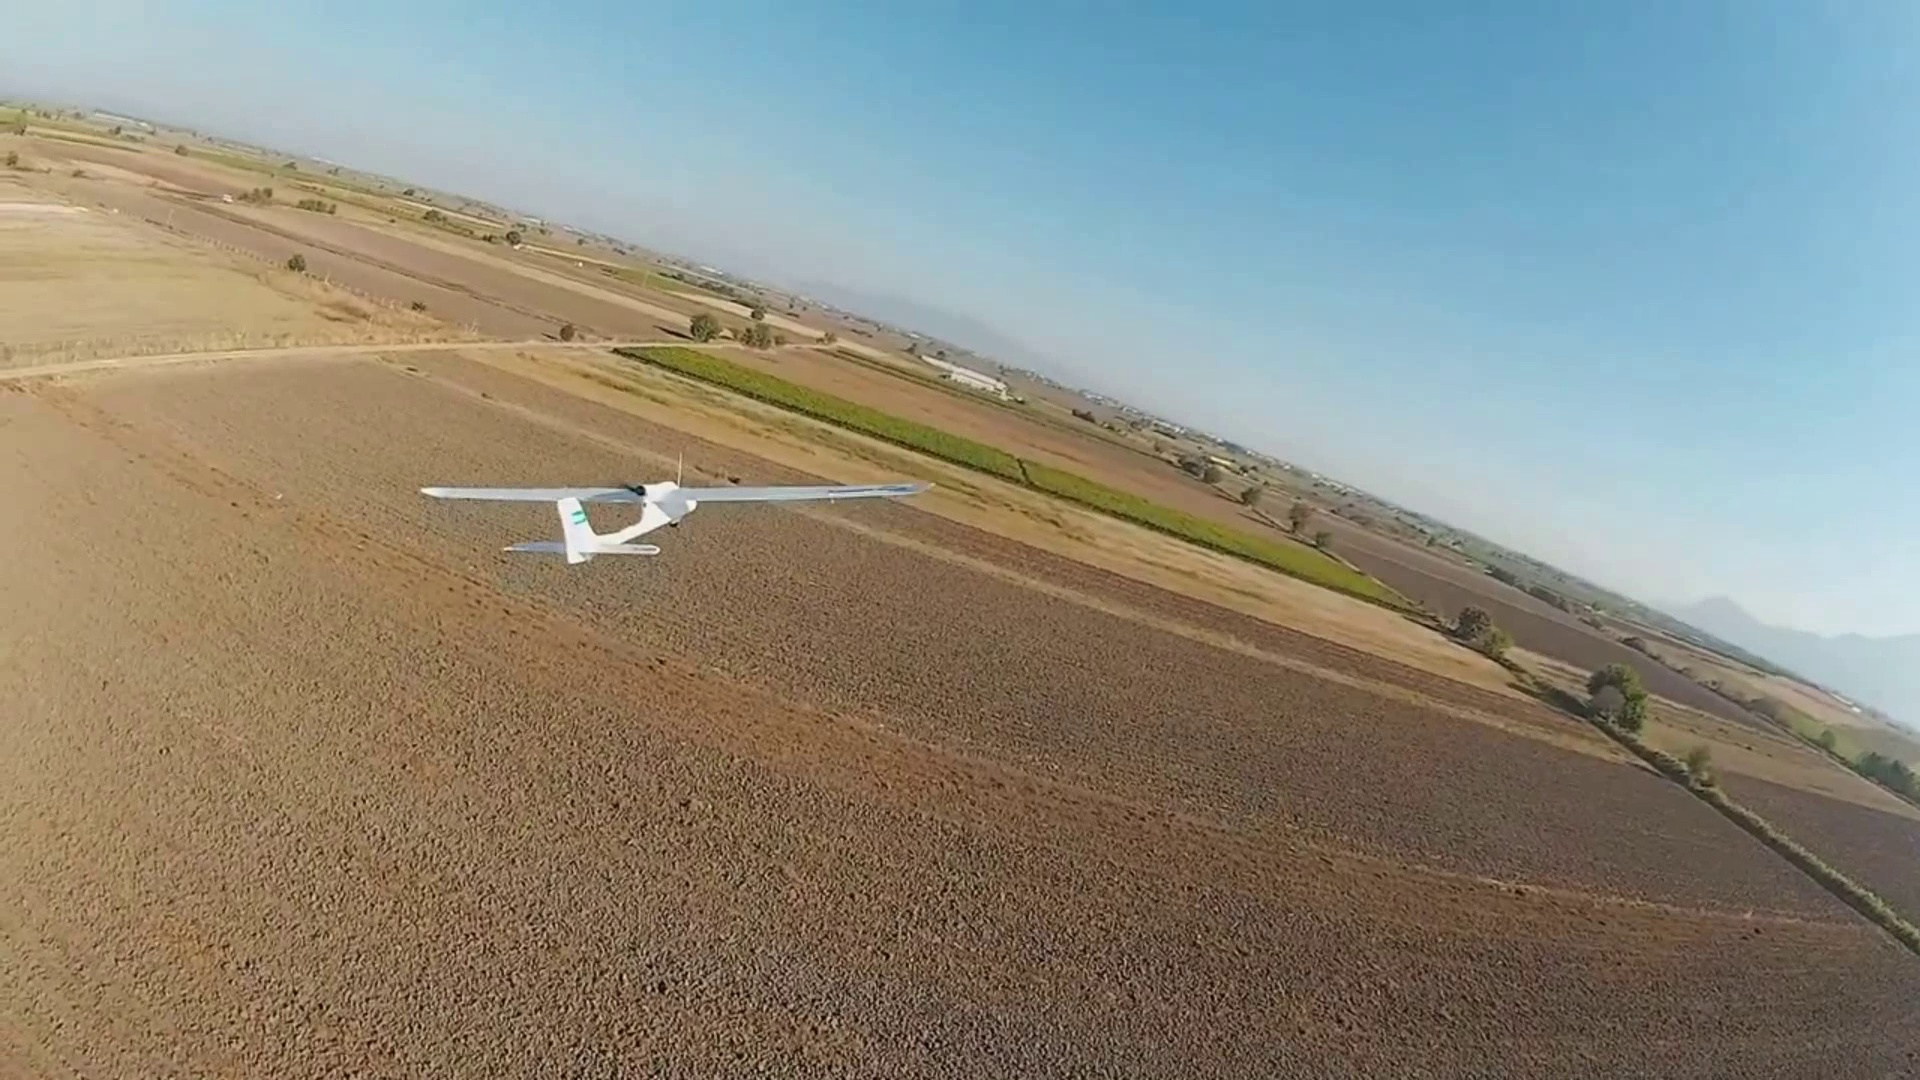airplane: (418, 477, 924, 568)
